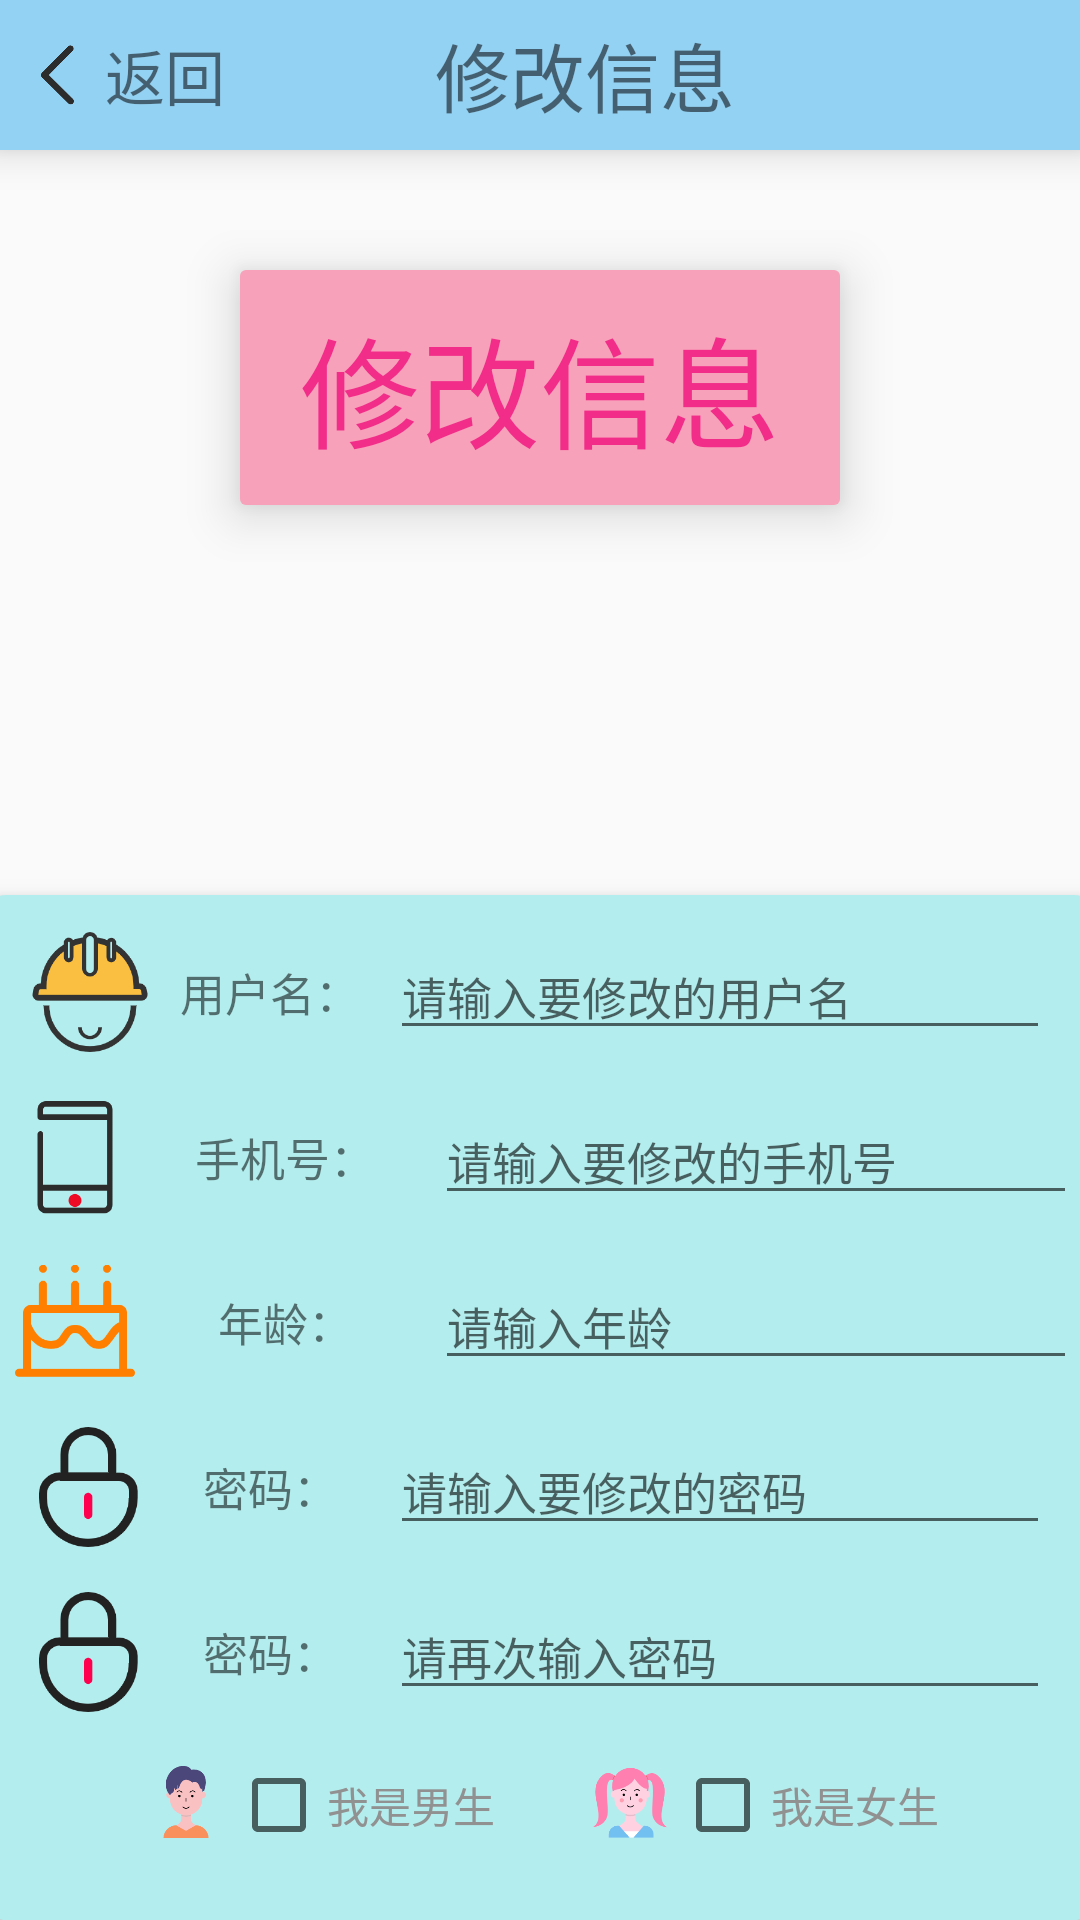

Icon click points for this 1080px x 1920px phone screenshot, format (x=x, y=y):
age: (x=75, y=1321)
boy: (x=186, y=1802)
girl: (x=629, y=1803)
telephone: (x=75, y=1157)
